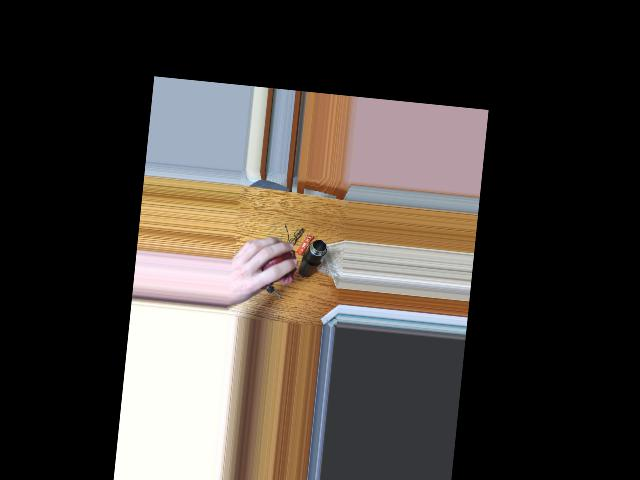onion: (252, 244, 290, 288)
